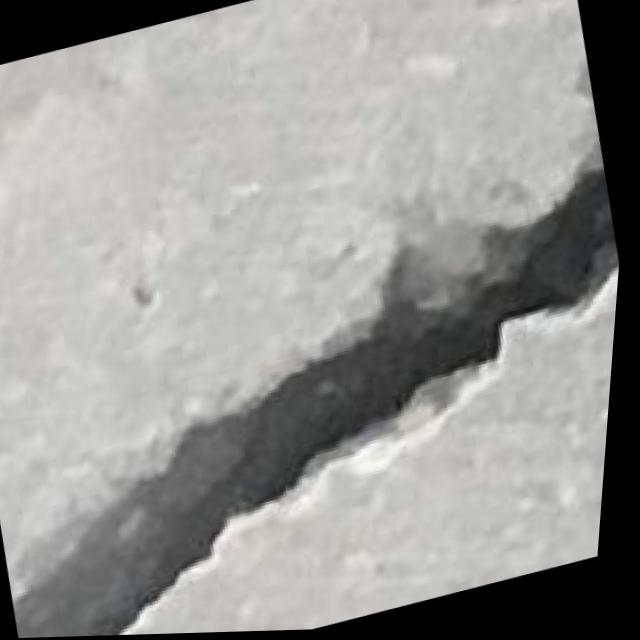Crack: (0, 133, 631, 640)
